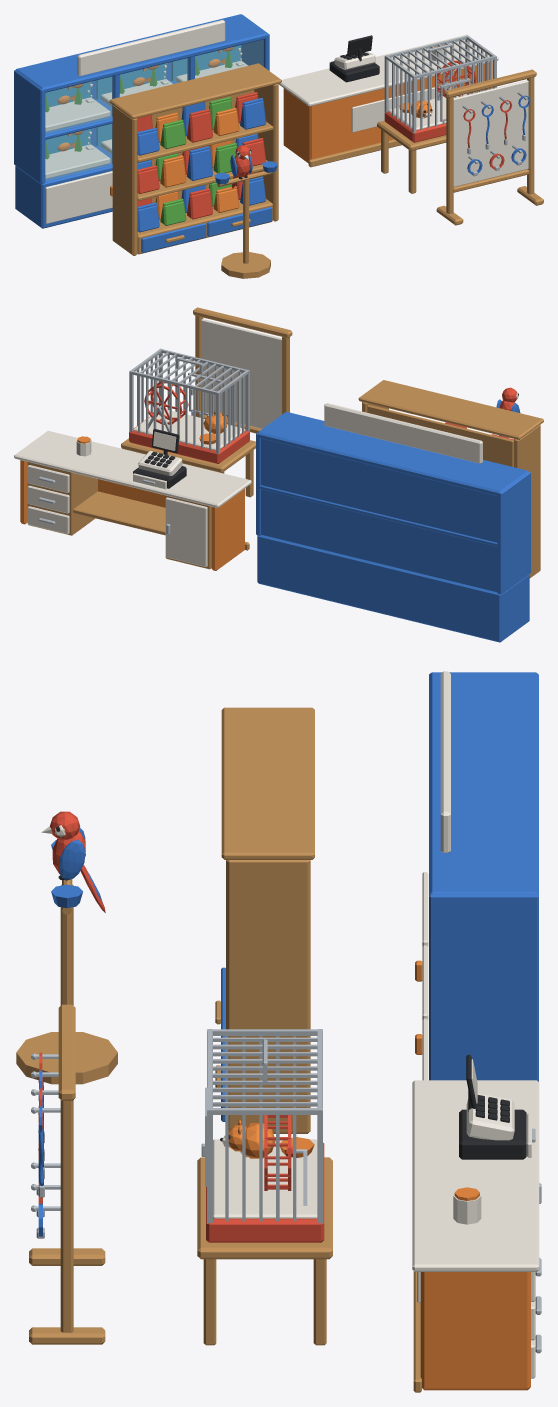
Rendered from pet-shop-set.glb.
The picture shows the model from 3 angles, top to bottom: view 1: azimuth 30°, elevation 25°; view 2: azimuth 150°, elevation 25°; view 3: azimuth 270°, elevation 25°; orthographic projection. The views are drawn at different scales.
Visible parts, largest first — view 1: FoodShelf_Frame, Tank_Frame, Tank_Glass, LeashRack_Board, Counter_TopSign, Counter_Body, Cage_Bars, FoodBags_Blue, Tank_GravelBubbles, LeashRack_Frame, TankSign_Blank, FoodBags_Red (+18 smaller); view 2: Tank_Frame, FoodShelf_Frame, Counter_TopSign, Cage_Bars, LeashRack_Board, Counter_Cabinets, TankSign_Blank, Counter_Body, Counter_Door, LeashRack_Frame, Cage_Table, Cage_Tray (+7 smaller); view 3: Tank_Frame, FoodShelf_Frame, Counter_TopSign, Counter_Body, Cage_Bars, LeashRack_Frame, Cage_Table, Cage_Bedding, Perch_Stand, Register_Body, Cage_Tray, TankSign_Blank (+6 smaller).
Part boxes in pixels (<box>): FoodShelf_Frame: <box>109,63,281,255</box>; Tank_Frame: <box>14,14,269,228</box>; Tank_Glass: <box>45,40,263,180</box>; LeashRack_Board: <box>453,80,528,186</box>; Counter_TopSign: <box>278,34,498,132</box>; Counter_Body: <box>283,45,492,163</box>; Cage_Bars: <box>384,35,496,133</box>; FoodBags_Blue: <box>137,98,266,232</box>; Tank_GravelBubbles: <box>45,48,247,178</box>; LeashRack_Frame: <box>436,69,543,225</box>; TankSign_Blank: <box>77,20,225,76</box>; FoodBags_Red: <box>137,92,266,219</box>; Tank_Frame: <box>256,412,530,642</box>; FoodShelf_Frame: <box>358,380,543,578</box>; Counter_TopSign: <box>14,430,251,508</box>; Cage_Bars: <box>129,348,249,453</box>; LeashRack_Board: <box>201,319,281,428</box>; Counter_Cabinets: <box>27,462,249,569</box>; TankSign_Blank: <box>324,403,482,463</box>; Counter_Body: <box>20,436,244,570</box>; Counter_Door: <box>165,497,207,566</box>; LeashRack_Frame: <box>193,307,292,433</box>; Cage_Table: <box>121,438,255,497</box>; Cage_Tray: <box>129,416,249,463</box>; Tank_Frame: <box>429,672,538,1081</box>; FoodShelf_Frame: <box>221,707,314,1133</box>; Counter_TopSign: <box>412,1080,539,1302</box>; Counter_Body: <box>420,1187,530,1390</box>; Cage_Bars: <box>207,1029,322,1223</box>; LeashRack_Frame: <box>29,1004,105,1344</box>; Cage_Table: <box>197,1157,332,1345</box>; Cage_Bedding: <box>213,1135,317,1218</box>; Perch_Stand: <box>16,879,117,1084</box>; Register_Body: <box>459,1054,526,1159</box>; Cage_Tray: <box>206,1142,324,1242</box>; TankSign_Blank: <box>440,671,450,852</box>.
Bounding box in the file's own units: 24.77 × 8.4 × 12.41.
